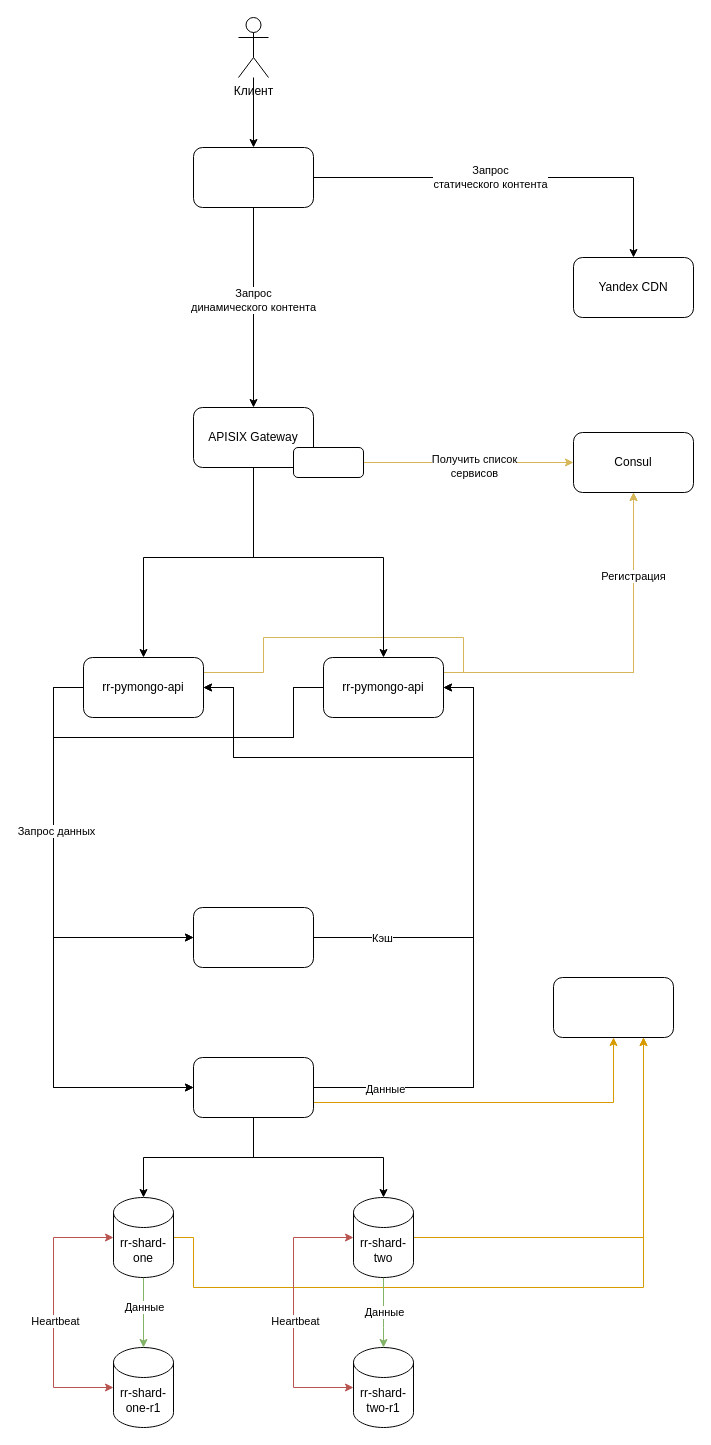
This 711x1445 diagram has some shape labels left out. The shapes that lost their labels are listed below. From the top down, each one's centre as x and y in pixels, then its label:
At point (253, 177): "Сайт React/Nginx".
At point (328, 462): "consul_kv".
At point (253, 937): "rr-redis".
At point (613, 1007): "rr-config-server".
At point (253, 1087): "rr-mongo-router".
